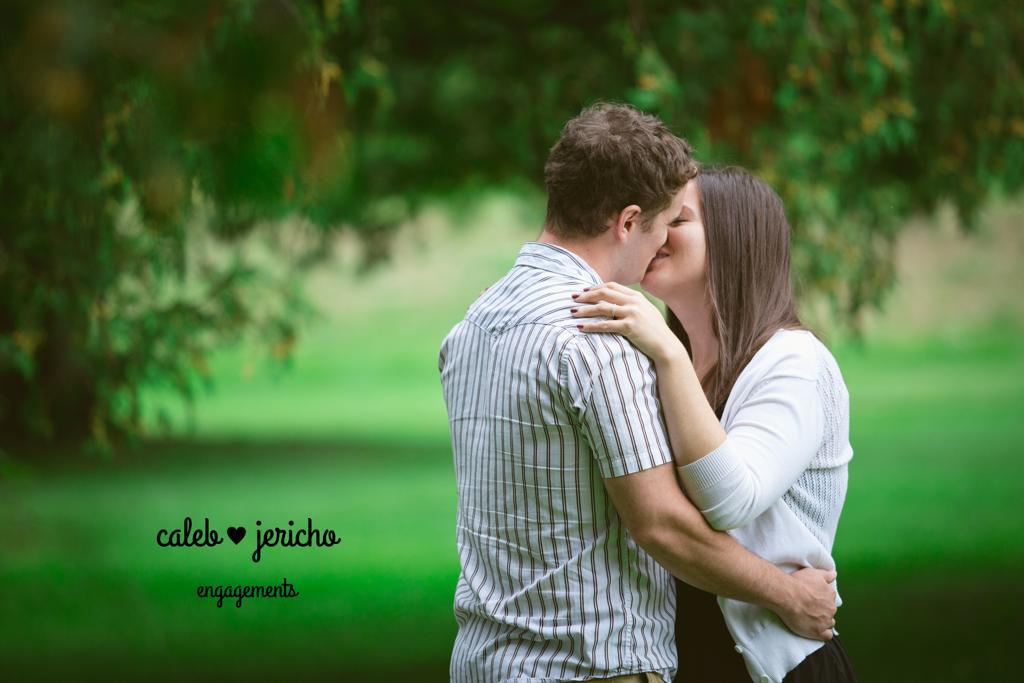face: (643, 185, 729, 289)
